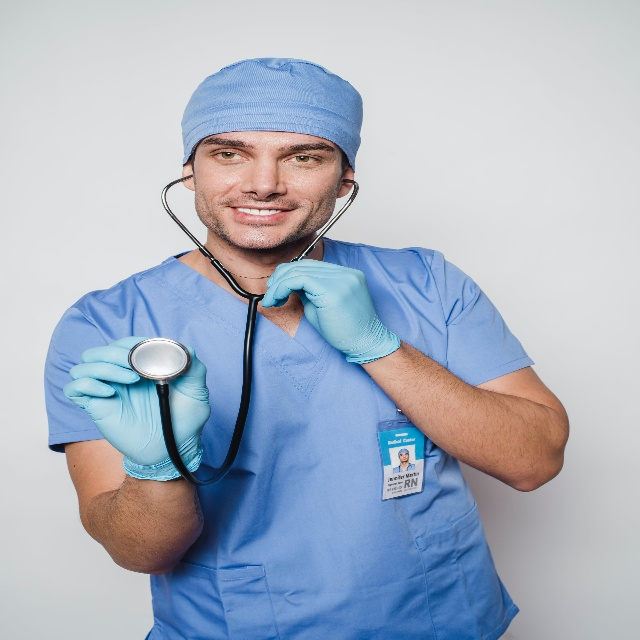Guantes: (62, 336, 211, 482), (260, 259, 401, 364)
